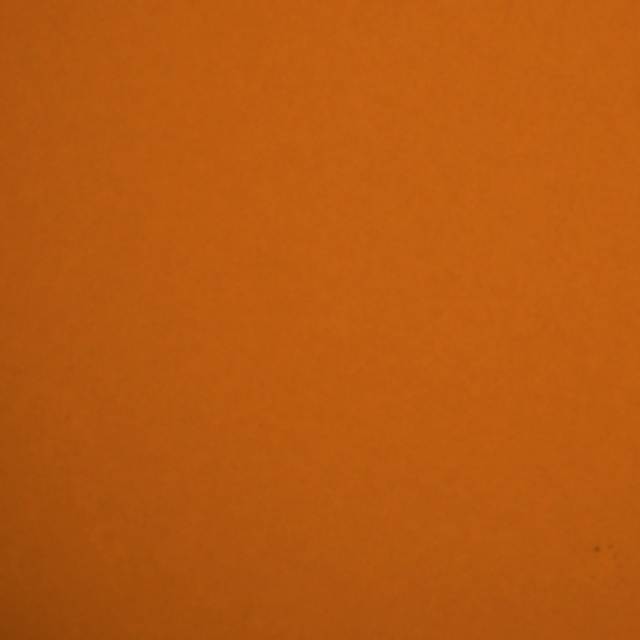sunspot: (592, 542, 615, 556), (592, 544, 602, 555)
